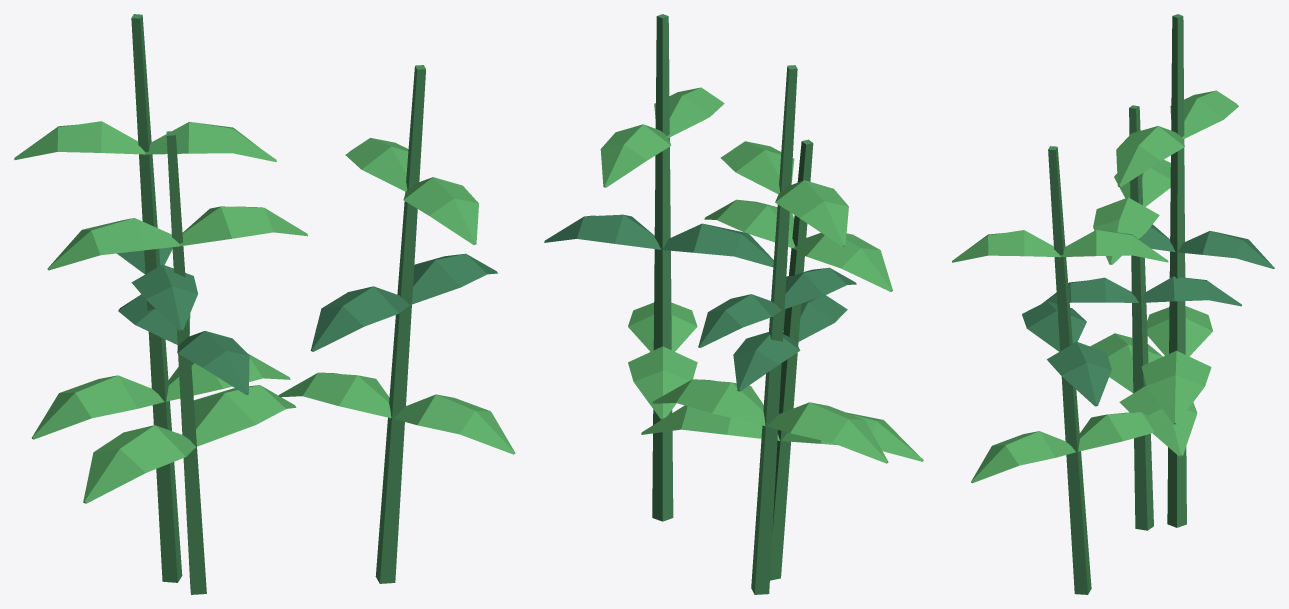
The model's file is nettle_b.glb.
The picture shows the model from 3 angles, left to right: view 1: azimuth 30°, elevation 25°; view 2: azimuth 150°, elevation 25°; view 3: azimuth 270°, elevation 25°; orthographic projection. The views are drawn at different scales.
Parts seen in each view (by area): view 1: NettleB; view 2: NettleB; view 3: NettleB.
Part boxes in pixels (x1,y1,x2,y2): NettleB: (14, 14, 515, 594); NettleB: (544, 14, 923, 594); NettleB: (952, 14, 1274, 594).
Bounding box in the file's own units: 0.4823 × 0.6326 × 0.3742.
